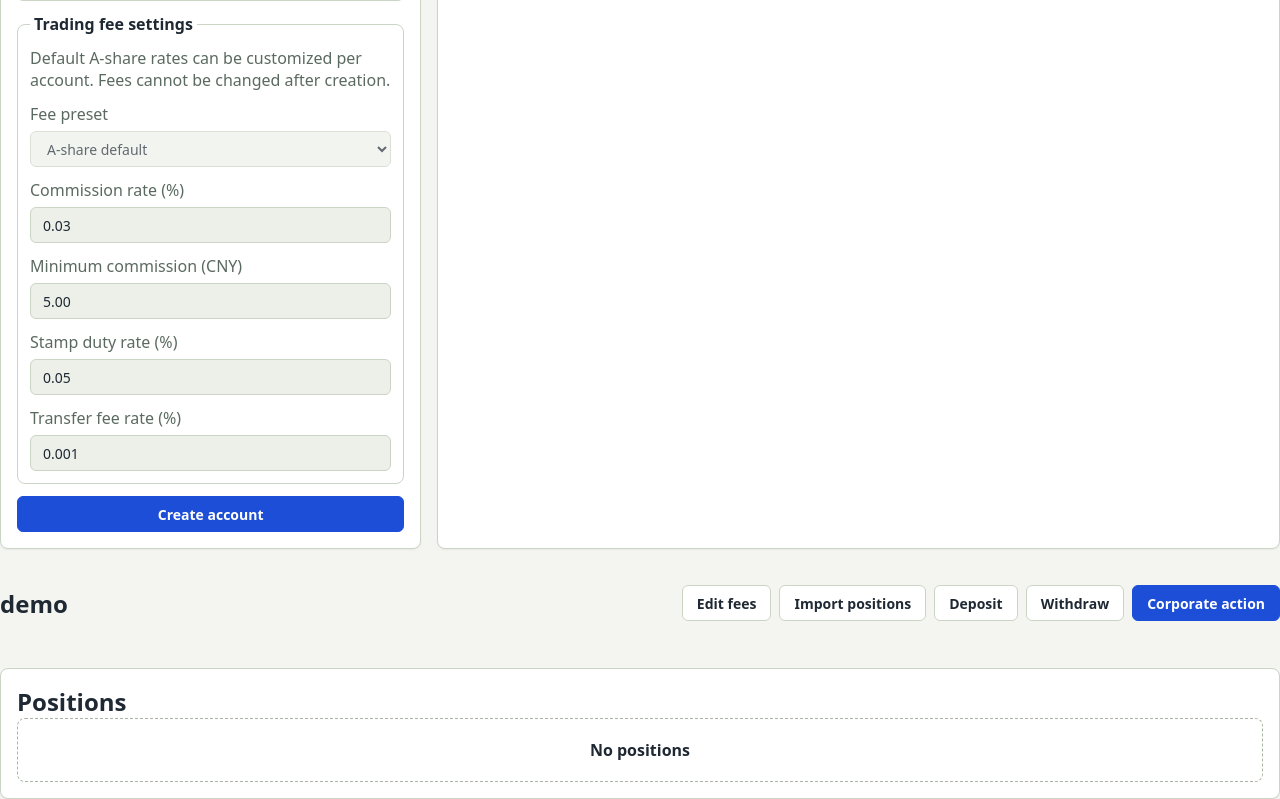
Scenario: AccountsPage › opens the fee editor from the selected account header
The width and height of the screenshot is (1280, 799).
(page scrolled)
Step 1. Click the button "Edit fees" → (727, 603), box top-left (682, 585), bottom-right (772, 621)
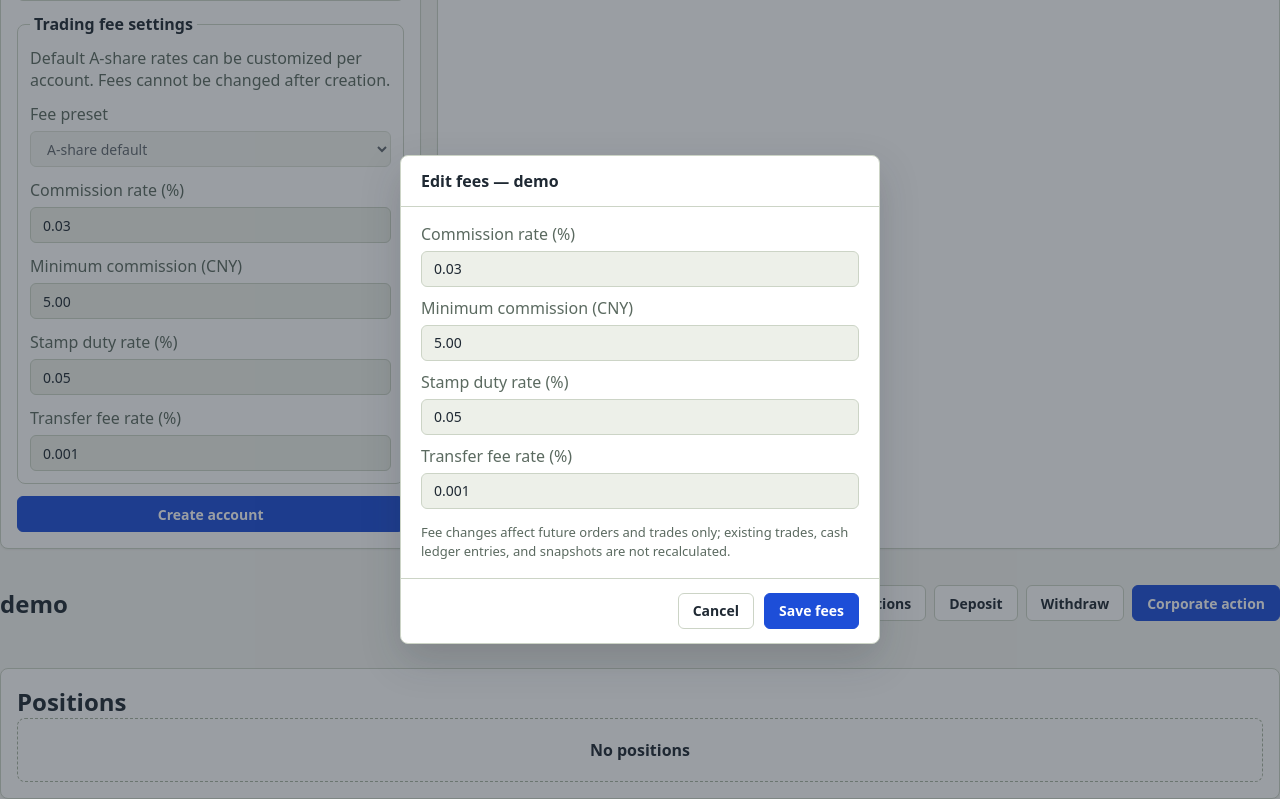
Result: the dialog named "Edit fees for demo" is shown at top-left (400, 154), bottom-right (880, 644)
Result: the field labelled "Commission rate (%)" holds "0.03" at top-left (421, 250), bottom-right (859, 286)
